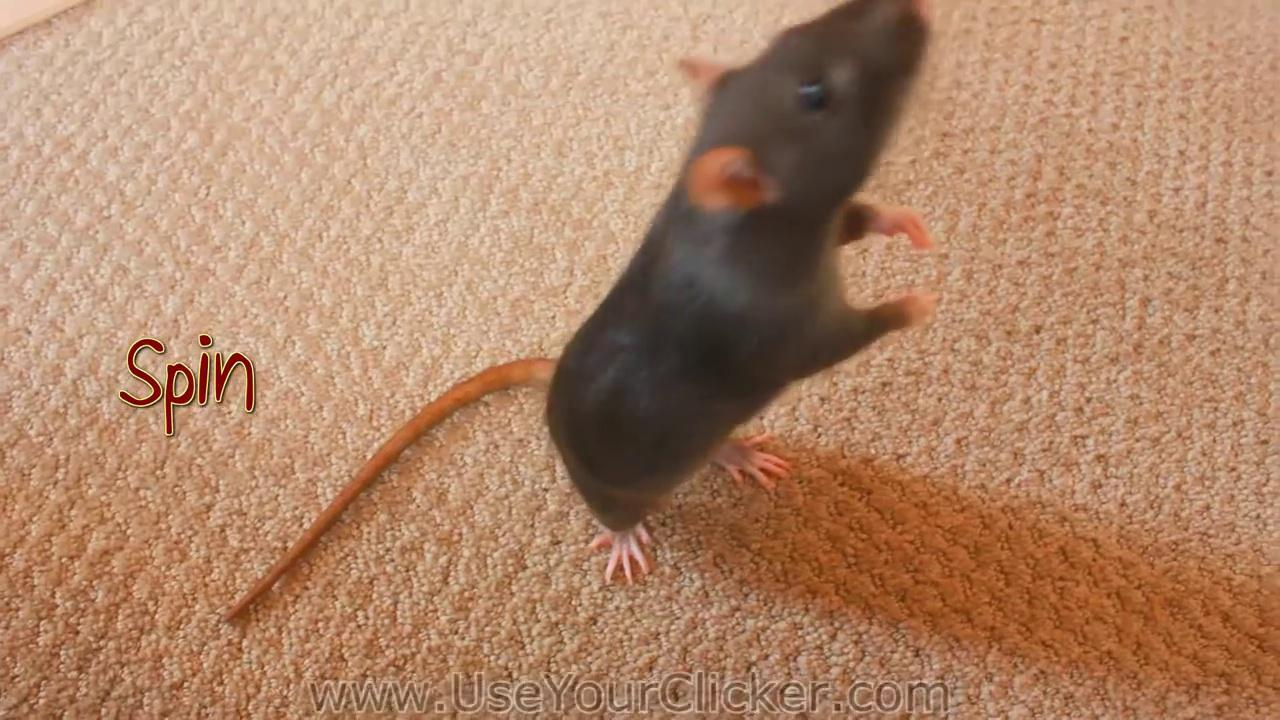rat: (218, 0, 929, 624)
